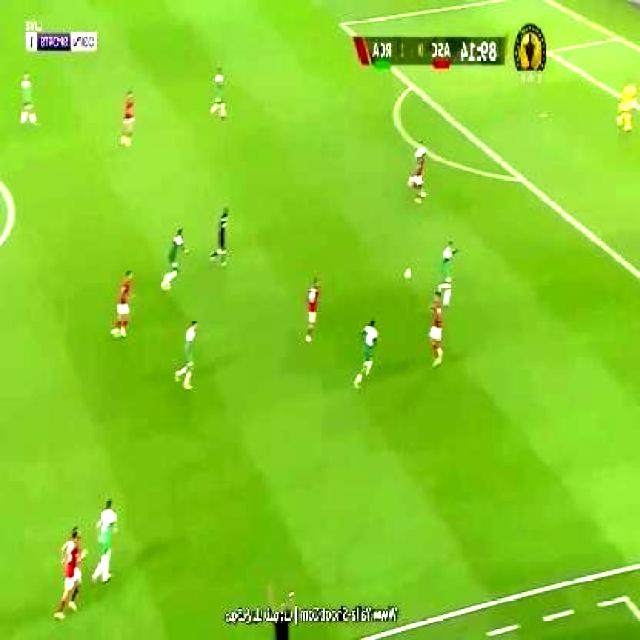bigarea_top_inner: (338, 17, 351, 35)
bottom_arc_area_intersection: (514, 169, 528, 186)
smallarea_top_inner: (548, 46, 557, 60)
smallarea_top_outter: (612, 29, 626, 46)
top_arc_area_intersection: (409, 80, 418, 94)
